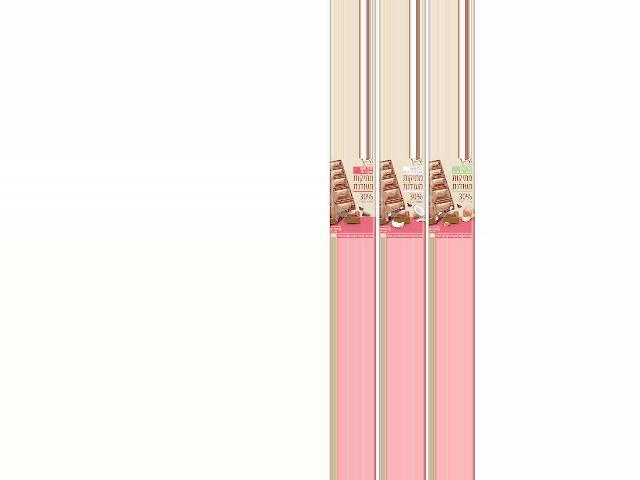chocolate: (429, 159, 476, 239)
